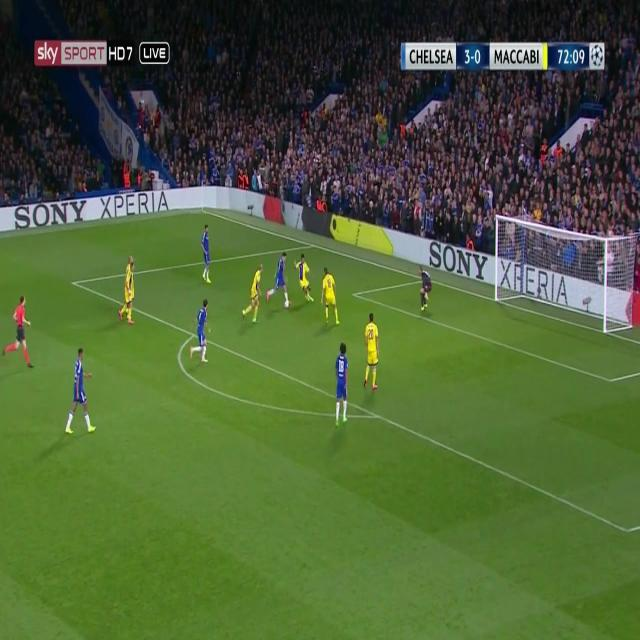Ball: (283, 296, 289, 313)
Goalkeeper: (418, 262, 432, 314)
Player: (64, 346, 96, 441), (361, 311, 381, 400), (265, 250, 293, 312), (331, 342, 350, 432), (240, 261, 264, 327), (187, 296, 209, 366), (320, 264, 342, 327), (117, 253, 135, 327), (293, 253, 317, 305), (200, 224, 212, 287)
Referee: (2, 292, 34, 372)
